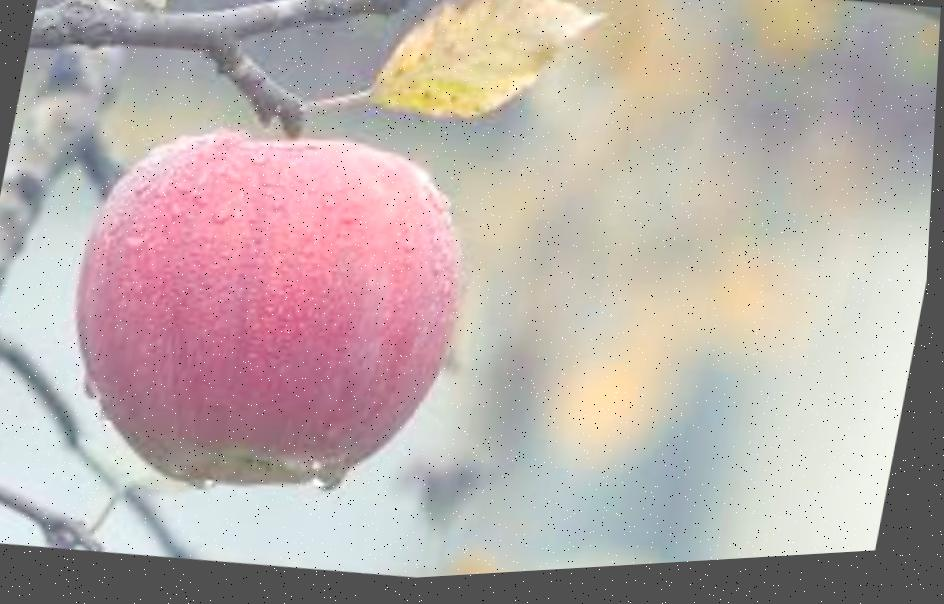HEALTHY: (20, 44, 511, 554)
